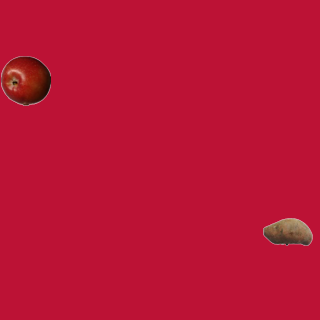Apple Braeburn: (0, 55, 50, 105)
Potato Sweet: (262, 206, 312, 256)
